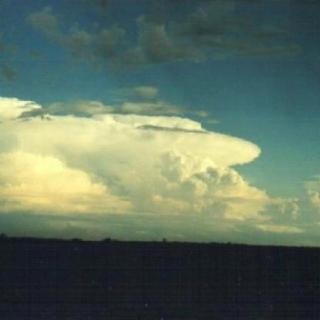Cumulonimbus: (0, 5, 320, 246)
